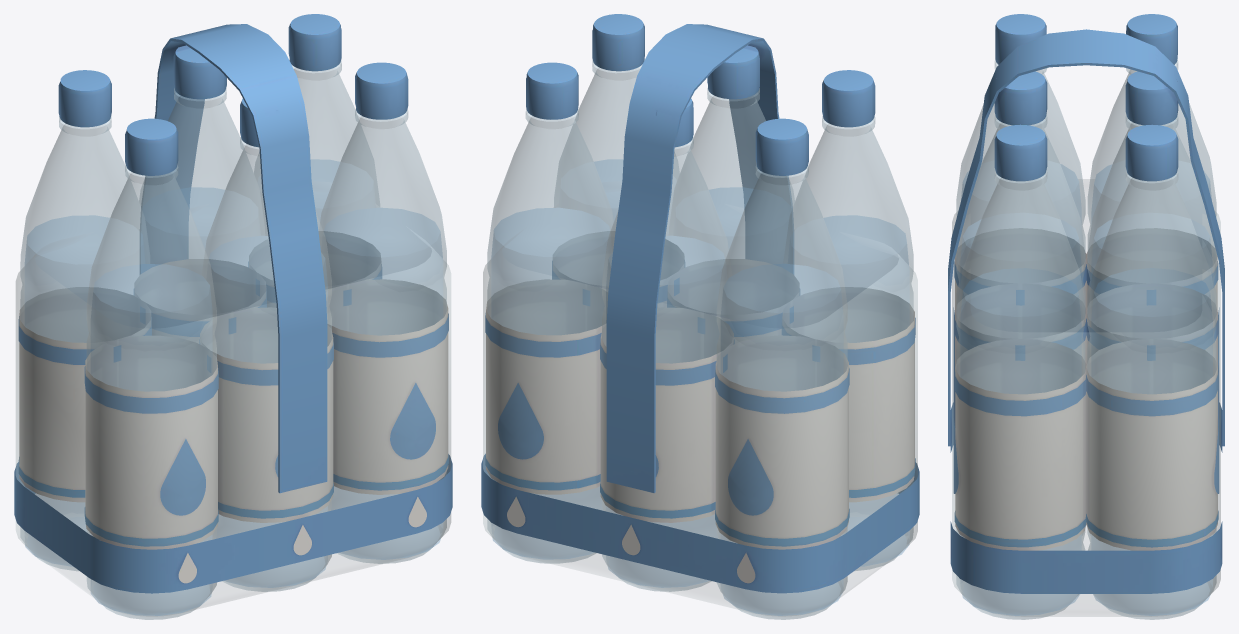
Rendered from water-bottle-pack.fbx.
The picture shows the model from 3 angles, left to right: view 1: azimuth 30°, elevation 25°; view 2: azimuth 150°, elevation 25°; view 3: azimuth 270°, elevation 25°; orthographic projection.
Visible parts, largest first — view 1: water-bottle-pack_body, water-bottle-pack_bottles_glass, water-bottle-pack_film_glass, water-bottle-pack_water_glass; view 2: water-bottle-pack_body, water-bottle-pack_bottles_glass, water-bottle-pack_film_glass, water-bottle-pack_water_glass; view 3: water-bottle-pack_body, water-bottle-pack_bottles_glass, water-bottle-pack_film_glass, water-bottle-pack_water_glass.
Part boxes in pixels (<box>): water-bottle-pack_body: <box>14,14,452,593</box>; water-bottle-pack_bottles_glass: <box>20,60,446,619</box>; water-bottle-pack_film_glass: <box>16,247,450,615</box>; water-bottle-pack_water_glass: <box>25,159,442,615</box>; water-bottle-pack_body: <box>481,14,919,593</box>; water-bottle-pack_bottles_glass: <box>487,60,913,619</box>; water-bottle-pack_film_glass: <box>483,247,917,615</box>; water-bottle-pack_water_glass: <box>491,159,909,615</box>; water-bottle-pack_body: <box>948,14,1224,593</box>; water-bottle-pack_bottles_glass: <box>956,59,1216,619</box>; water-bottle-pack_film_glass: <box>952,179,1220,616</box>; water-bottle-pack_water_glass: <box>960,164,1212,615</box>.
Bounding box in the file's own units: 0.2366 × 0.3218 × 0.1626.
4 materials, 1 textured.
